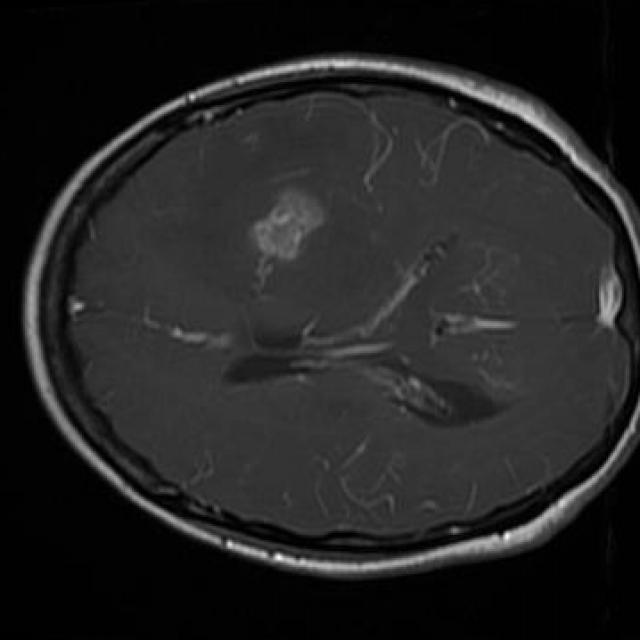glioma: (251, 193, 324, 262)
